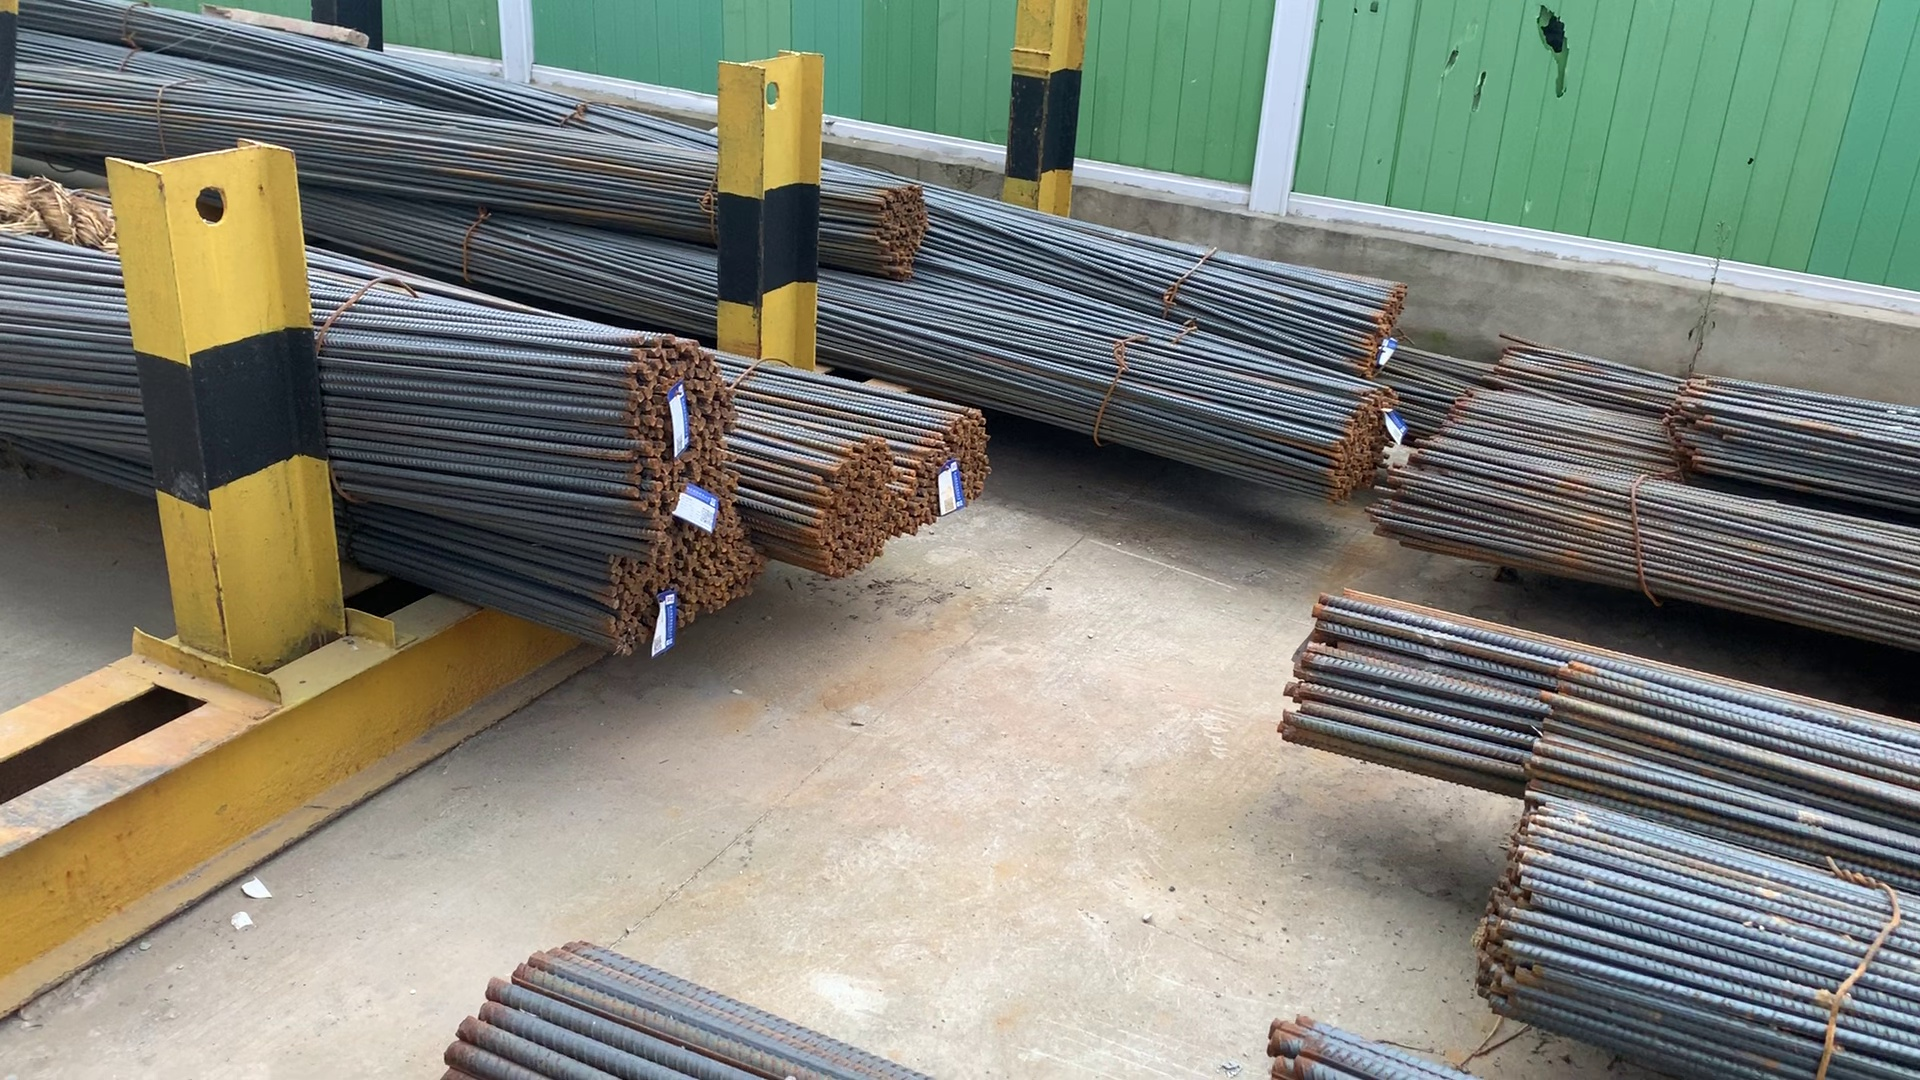rebar: (603, 520, 764, 650), (612, 330, 731, 489), (806, 443, 905, 575), (906, 400, 996, 535), (1331, 393, 1399, 496), (868, 185, 926, 284), (1360, 280, 1406, 380)
